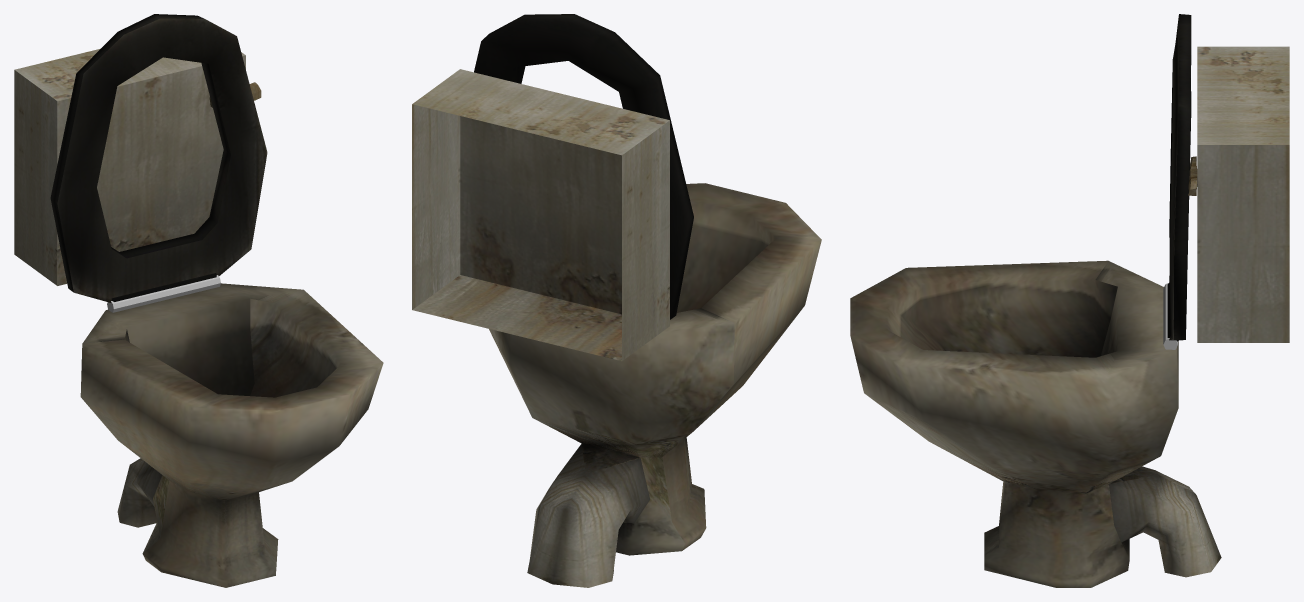
Rendered from toilet_chair.dae.
3 views of the same model, side by side, from view 1: azimuth 30°, elevation 25°; view 2: azimuth 150°, elevation 25°; view 3: azimuth 270°, elevation 25° (orthographic). The views are drawn at different scales.
Visible parts, largest first — view 1: toilet, toiletlid, _joint_hinge_toiletlid_toilet_0_90_nocollide_joint1; view 2: toilet, toiletlid; view 3: toilet, toiletlid.
Part boxes in pixels (x1,y1,x2,y2): toilet: (14,48,383,587); toiletlid: (50,14,267,302); _joint_hinge_toiletlid_toilet_0_90_nocollide_joint1: (107,275,220,312); toilet: (412,69,821,587); toiletlid: (474,14,693,319); toilet: (850,46,1289,587); toiletlid: (1167,14,1191,341).
Size of what is drawn, in the model's own units: 0.5017 by 1.08 by 0.8012.
